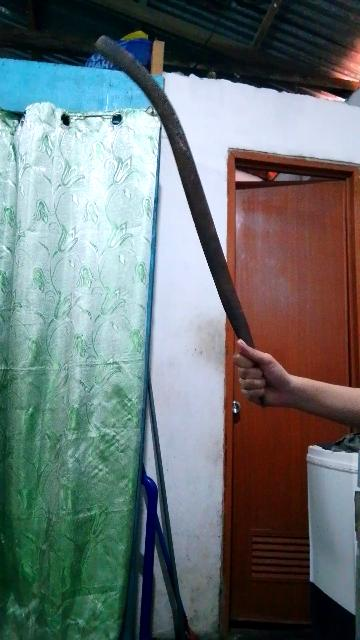long knife: (49, 31, 285, 415)
